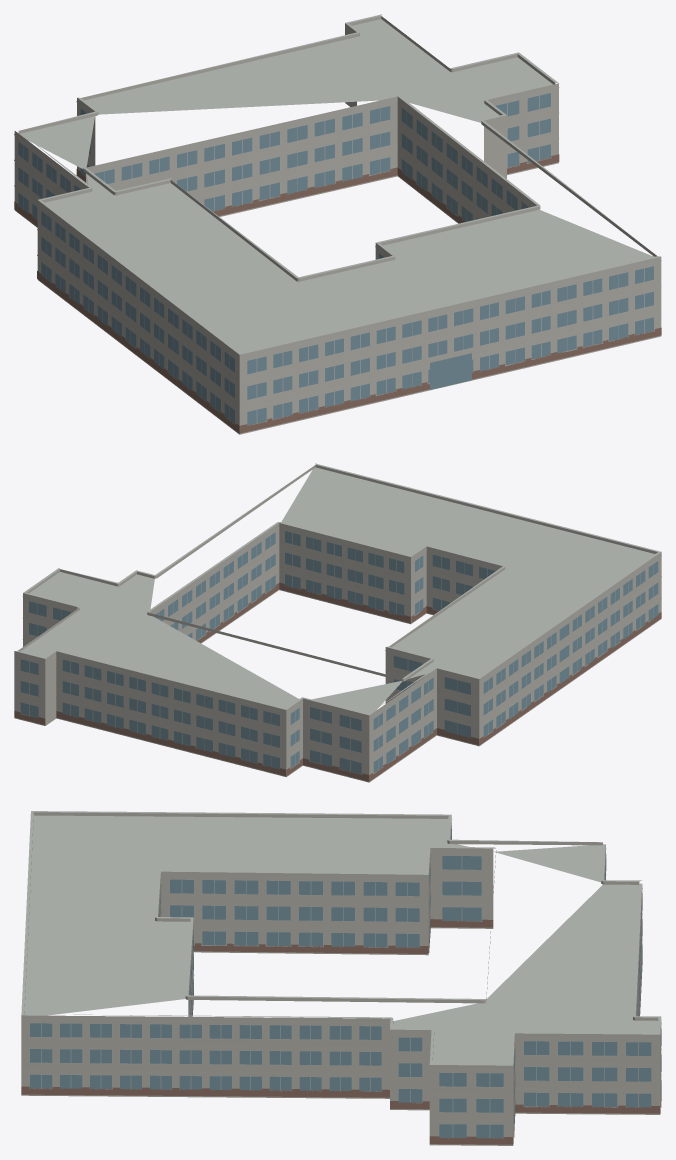
Rendered from public-b81e0a45-d0ce-4f2b-b04e-417c83df40aa.glb.
The picture shows the model from 3 angles, top to bottom: view 1: azimuth 30°, elevation 25°; view 2: azimuth 150°, elevation 25°; view 3: azimuth 270°, elevation 25°; orthographic projection. The views are drawn at different scales.
Visible parts, largest first — view 1: public-b81e0a45-d0ce-4f2b-b04e-417c83df40aa; view 2: public-b81e0a45-d0ce-4f2b-b04e-417c83df40aa; view 3: public-b81e0a45-d0ce-4f2b-b04e-417c83df40aa.
Boxes of the visible parts, <box> form: public-b81e0a45-d0ce-4f2b-b04e-417c83df40aa: <box>14,14,661,434</box>; public-b81e0a45-d0ce-4f2b-b04e-417c83df40aa: <box>14,463,661,782</box>; public-b81e0a45-d0ce-4f2b-b04e-417c83df40aa: <box>21,811,661,1145</box>.
Size of the model in its own units: 62.36 by 9.15 by 66.91.
